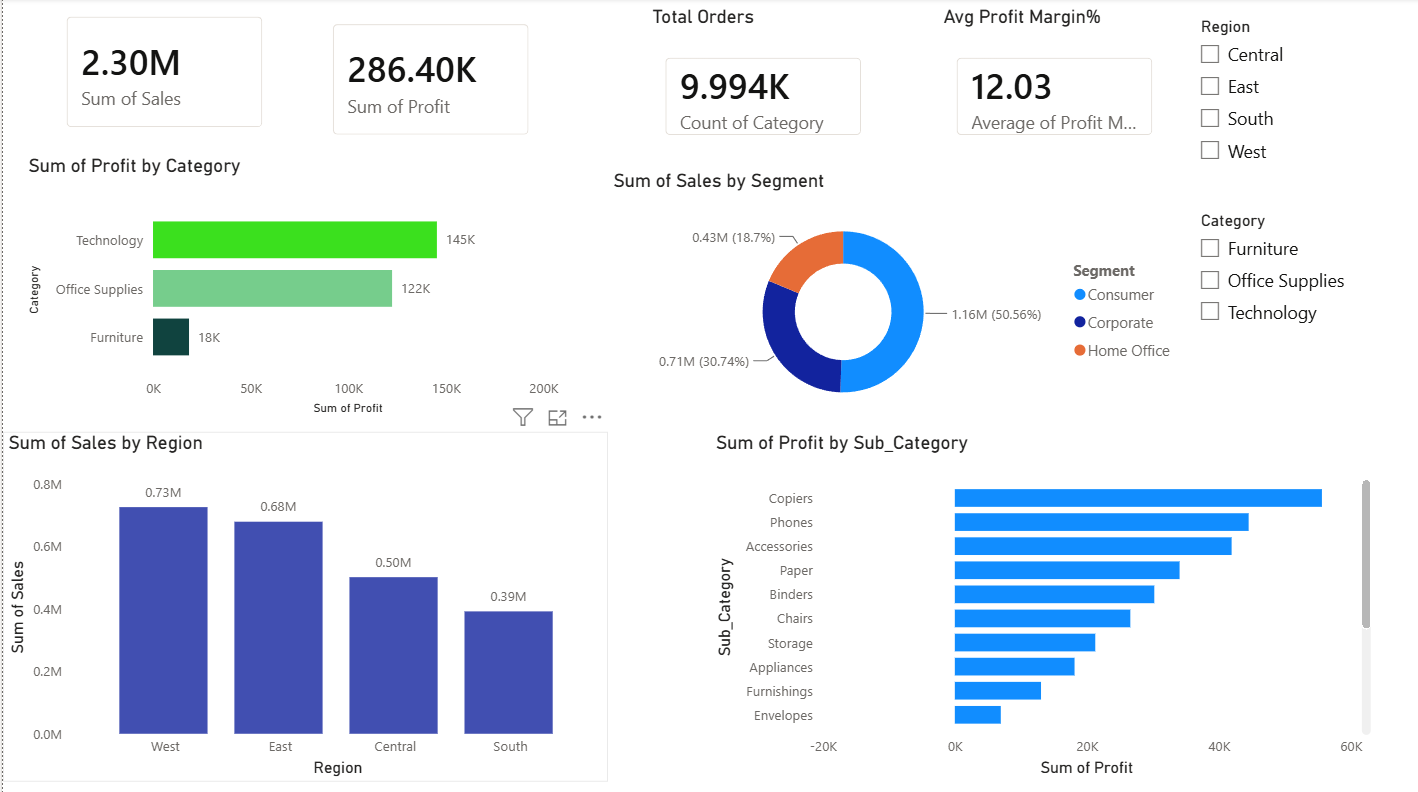

Layout of this report page (visuals, bound fields, positions):
{"tool":"powerbi","page":{"name":"Page 1","canvas":[1280,720],"ordinal":1},"visuals":[{"type":"clusteredBarChart","fields":{"Category":["SampleSuperstore.Category"],"Y":["Sum(SampleSuperstore.Profit)"]},"box":[17.8,141.3,489.9,240.1],"z":0},{"type":"clusteredColumnChart","fields":{"Category":["SampleSuperstore.Region"],"Y":["Sum(SampleSuperstore.Sales)"]},"box":[0,392.5,547.5,317],"z":1000},{"type":"cardVisual","fields":{"Data":["Sum(SampleSuperstore.Sales)"]},"box":[41.2,0,211.3,134.5],"z":2000},{"type":"cardVisual","fields":{"Data":["Sum(SampleSuperstore.Profit)"]},"box":[281.3,6.9,211.3,134.5],"z":3000},{"type":"cardVisual","title":"Total Orders","fields":{"Data":["CountNonNull(SampleSuperstore.Category)"]},"box":[581.8,6.9,211.3,134.5],"z":4000},{"type":"cardVisual","title":"Avg Profit Margin%","fields":{"Data":["Avg(SampleSuperstore.Profit Margin%)"]},"box":[845.3,6.9,211.3,134.5],"z":5000},{"type":"donutChart","fields":{"Category":["SampleSuperstore.Segment"],"Y":["Sum(SampleSuperstore.Sales)"]},"box":[547.5,155.1,522.8,227.8],"z":6000},{"type":"clusteredBarChart","fields":{"Category":["SampleSuperstore.Sub_Category"],"Y":["Sum(SampleSuperstore.Profit)"]},"box":[639.5,392.5,602.4,317],"z":7000},{"type":"slicer","fields":{"Values":["SampleSuperstore.Region"]},"box":[1070.3,12.3,185.2,160.5],"z":8000},{"type":"slicer","fields":{"Values":["SampleSuperstore.Category"]},"box":[1070.3,188,185.2,160.5],"z":9000}]}

Visuals, with their boxes in screenshot pixels (x1, y1, x2, y2), scaled from the page's 1280x720 canvas onto the 1418x792 screenshot:
clusteredBarChart - SampleSuperstore.Category x Sum(SampleSuperstore.Profit): box(20, 155, 562, 420)
clusteredColumnChart - SampleSuperstore.Region x Sum(SampleSuperstore.Sales): box(0, 432, 607, 780)
cardVisual - Sum(SampleSuperstore.Sales): box(46, 0, 280, 148)
cardVisual - Sum(SampleSuperstore.Profit): box(312, 8, 546, 156)
"Total Orders" cardVisual: box(645, 8, 879, 156)
"Avg Profit Margin%" cardVisual: box(936, 8, 1171, 156)
donutChart - SampleSuperstore.Segment x Sum(SampleSuperstore.Sales): box(607, 171, 1186, 421)
clusteredBarChart - SampleSuperstore.Sub_Category x Sum(SampleSuperstore.Profit): box(708, 432, 1376, 780)
slicer - SampleSuperstore.Region: box(1186, 14, 1391, 190)
slicer - SampleSuperstore.Category: box(1186, 207, 1391, 383)
